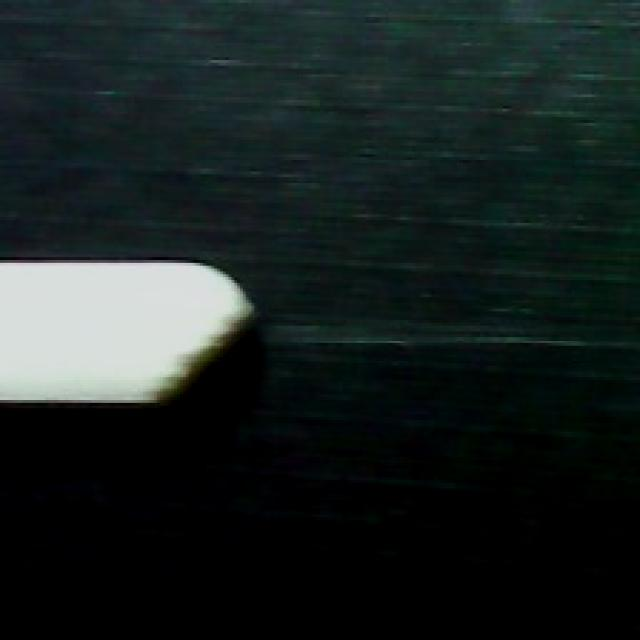defected: (0, 251, 260, 420)
